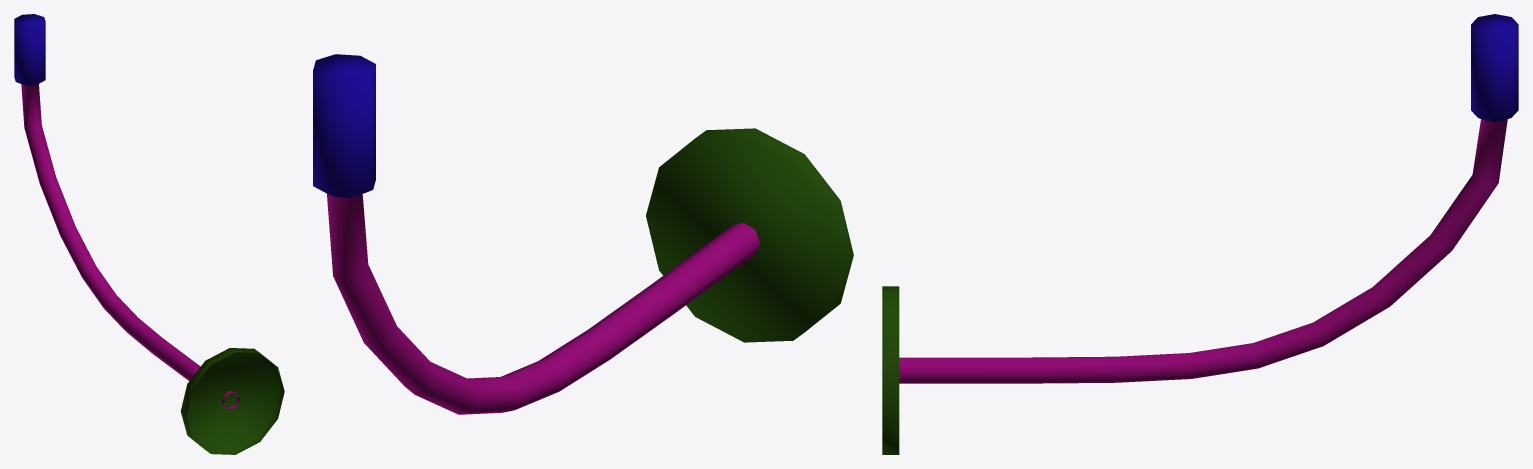
The model's file is Controls_Mic_01.fbx.
3 views of the same model, side by side, from view 1: azimuth 30°, elevation 25°; view 2: azimuth 150°, elevation 25°; view 3: azimuth 270°, elevation 25° (orthographic). The views are drawn at different scales.
Visible parts, largest first — view 1: SubwayCart_01_Controls_Mic_low; view 2: SubwayCart_01_Controls_Mic_low; view 3: SubwayCart_01_Controls_Mic_low.
Part boxes in pixels (left/top/right/bottom): SubwayCart_01_Controls_Mic_low: left=14, top=14, right=284, bottom=454; SubwayCart_01_Controls_Mic_low: left=313, top=54, right=853, bottom=414; SubwayCart_01_Controls_Mic_low: left=882, top=14, right=1518, bottom=454.
Bounding box in the file's own units: 0.05 × 0.1379 × 0.1879.
